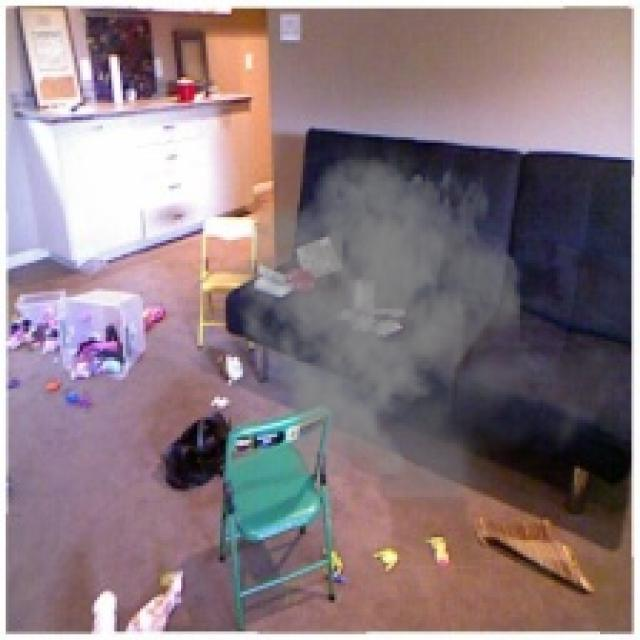Smoke: (228, 128, 626, 523)
